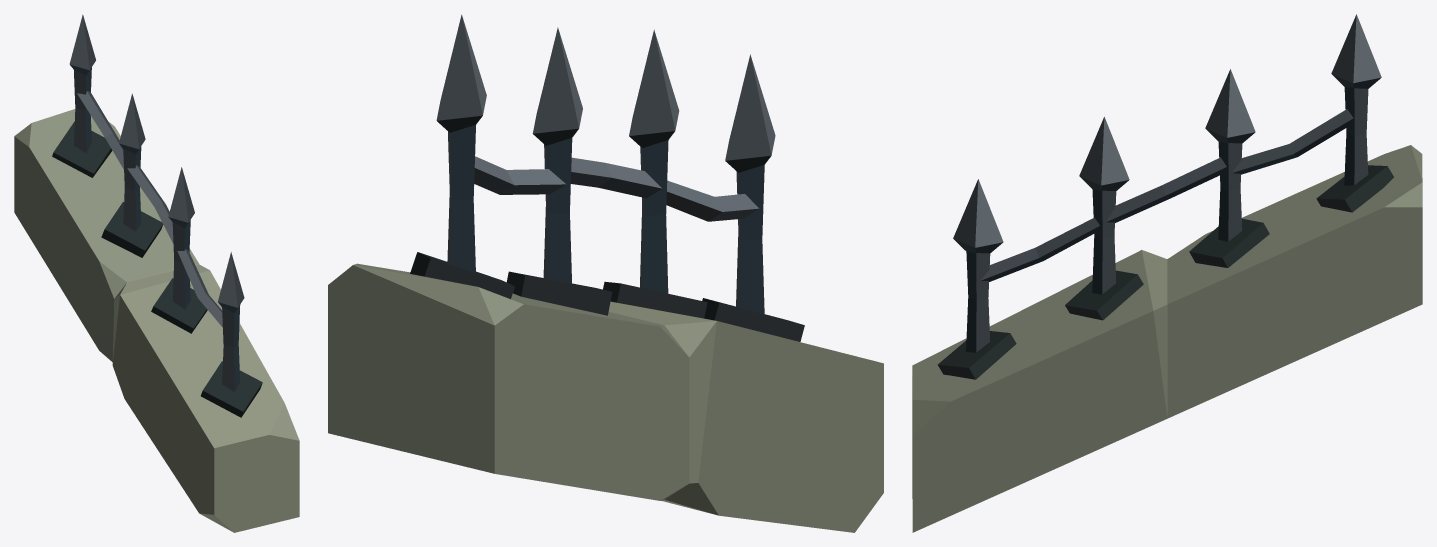
File: ramp_long_straight_railing_low_metal_spikes.fbx
3 views of the same model, side by side, from view 1: azimuth 30°, elevation 25°; view 2: azimuth 150°, elevation 25°; view 3: azimuth 270°, elevation 25° (orthographic). The views are drawn at different scales.
Visible parts, largest first — view 1: ramp_long_straight_railing_low_metal_spikes; view 2: ramp_long_straight_railing_low_metal_spikes; view 3: ramp_long_straight_railing_low_metal_spikes.
Boxes of the visible parts, x1,y1,x2,y2 form: ramp_long_straight_railing_low_metal_spikes: (14, 14, 299, 532); ramp_long_straight_railing_low_metal_spikes: (328, 14, 883, 532); ramp_long_straight_railing_low_metal_spikes: (912, 14, 1422, 532).
Bounding box in the file's own units: 55.19 × 215 × 202.
